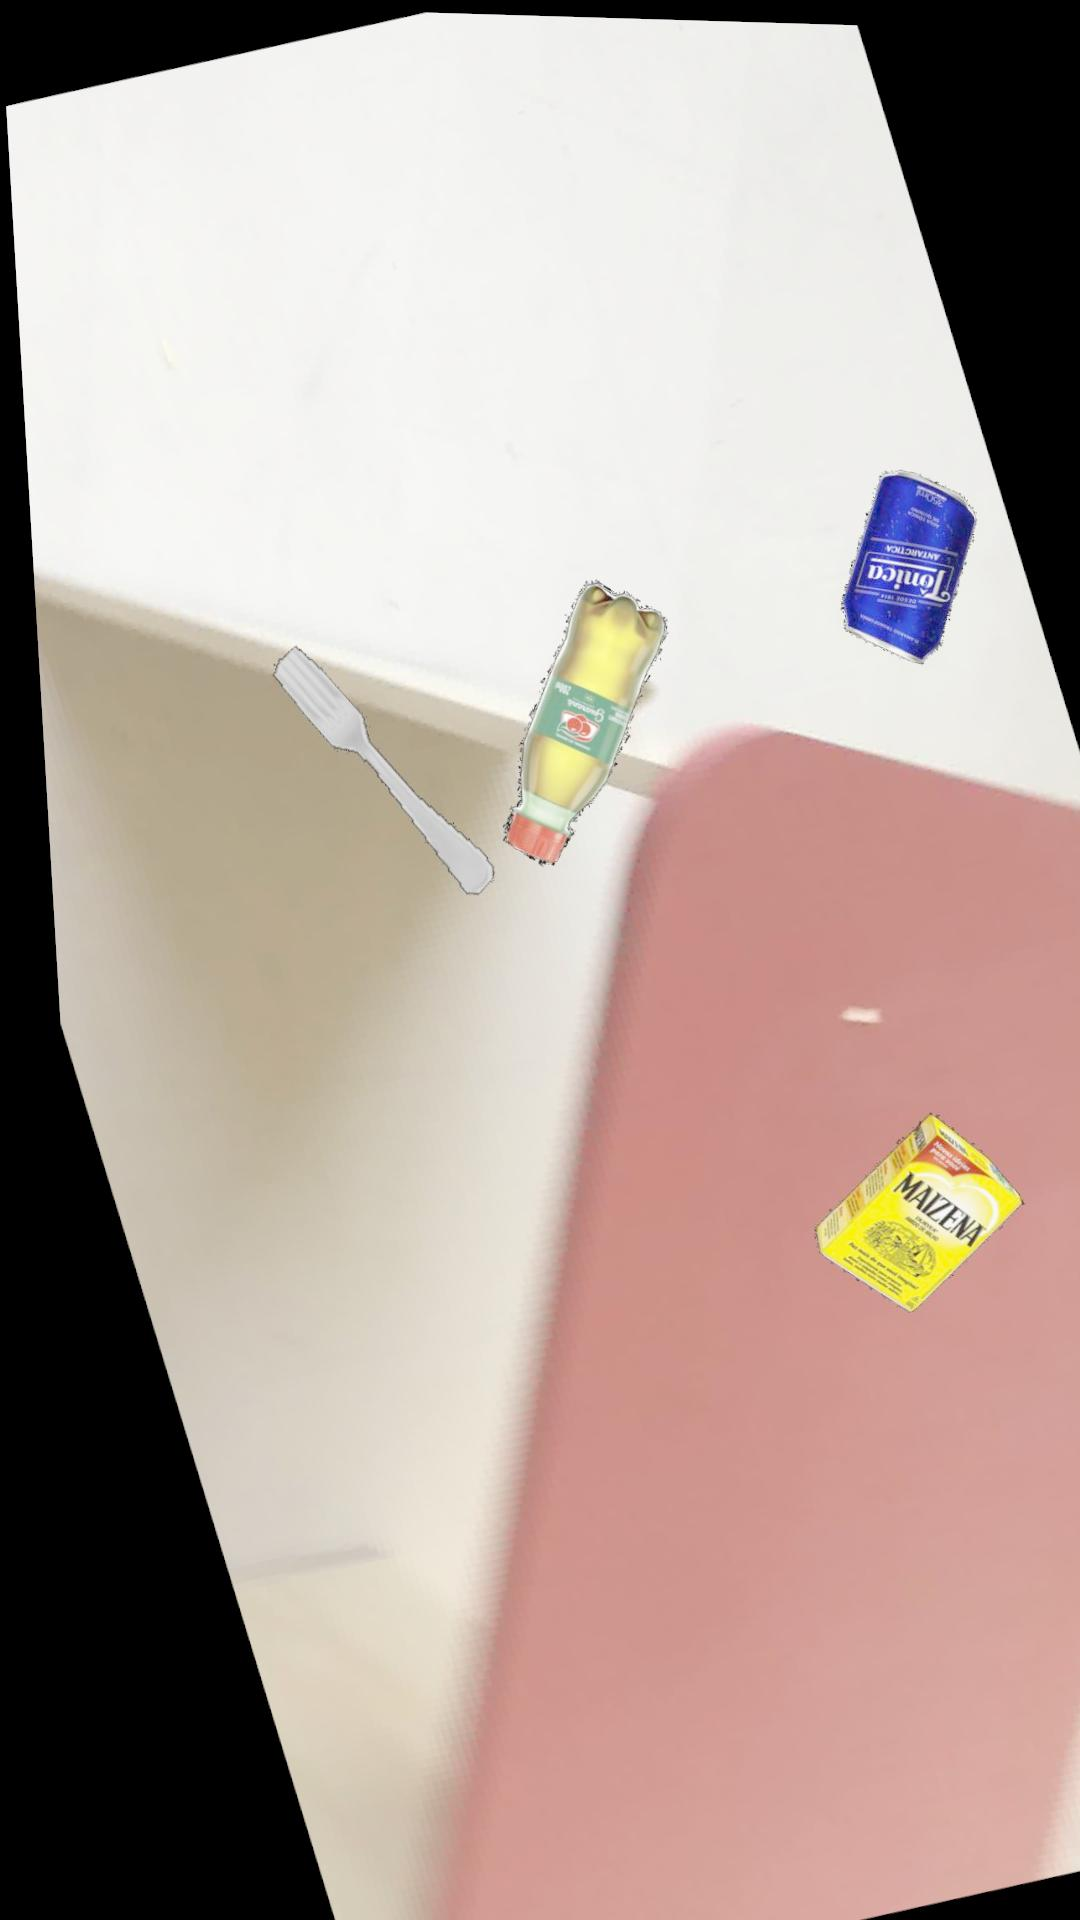fork: (262, 645, 481, 893)
guarana: (491, 578, 658, 864)
tonic: (831, 465, 968, 659)
